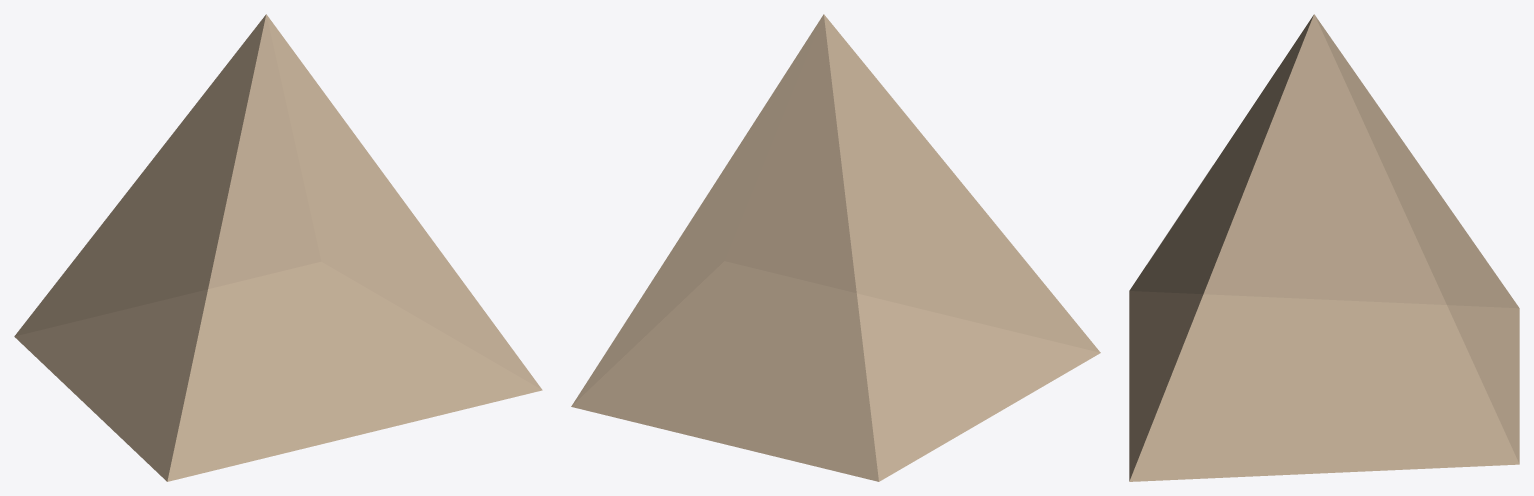
File: wolf.glb
3 views of the same model, side by side, from view 1: azimuth 30°, elevation 25°; view 2: azimuth 150°, elevation 25°; view 3: azimuth 270°, elevation 25° (orthographic). The views are drawn at different scales.
Parts seen in each view (by area): view 1: wolf; view 2: wolf; view 3: wolf.
Part boxes in pixels (x1,y1,x2,y2): wolf: (14,14,542,481); wolf: (571,14,1100,481); wolf: (1129,14,1519,481).
Bounding box in the file's own units: 1.1 × 1 × 0.95.
